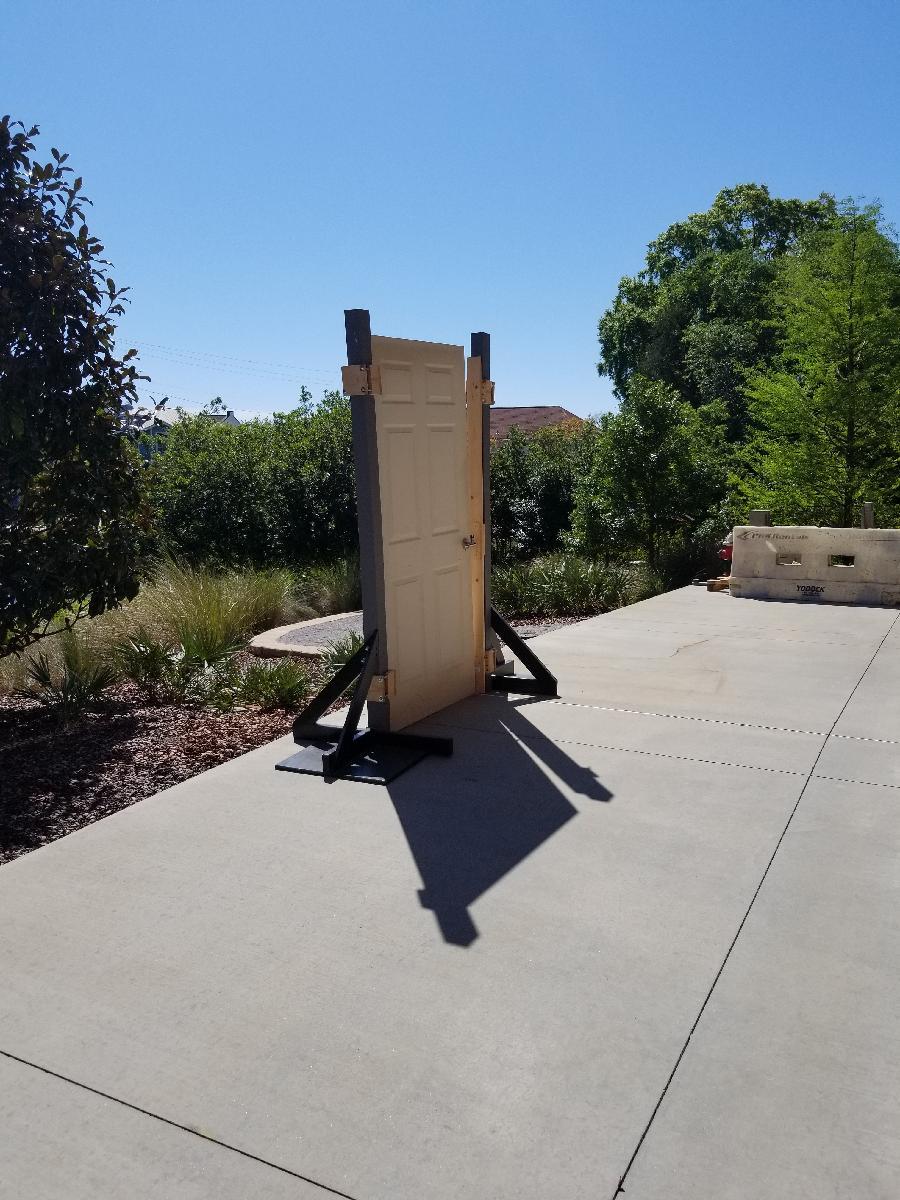door: (366, 331, 482, 744)
doorHandle: (458, 533, 473, 558)
